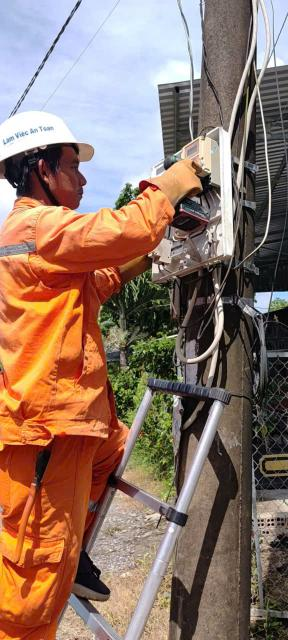gloves: (142, 151, 217, 224)
helmet: (0, 85, 105, 198)
shoes: (56, 555, 122, 617)
